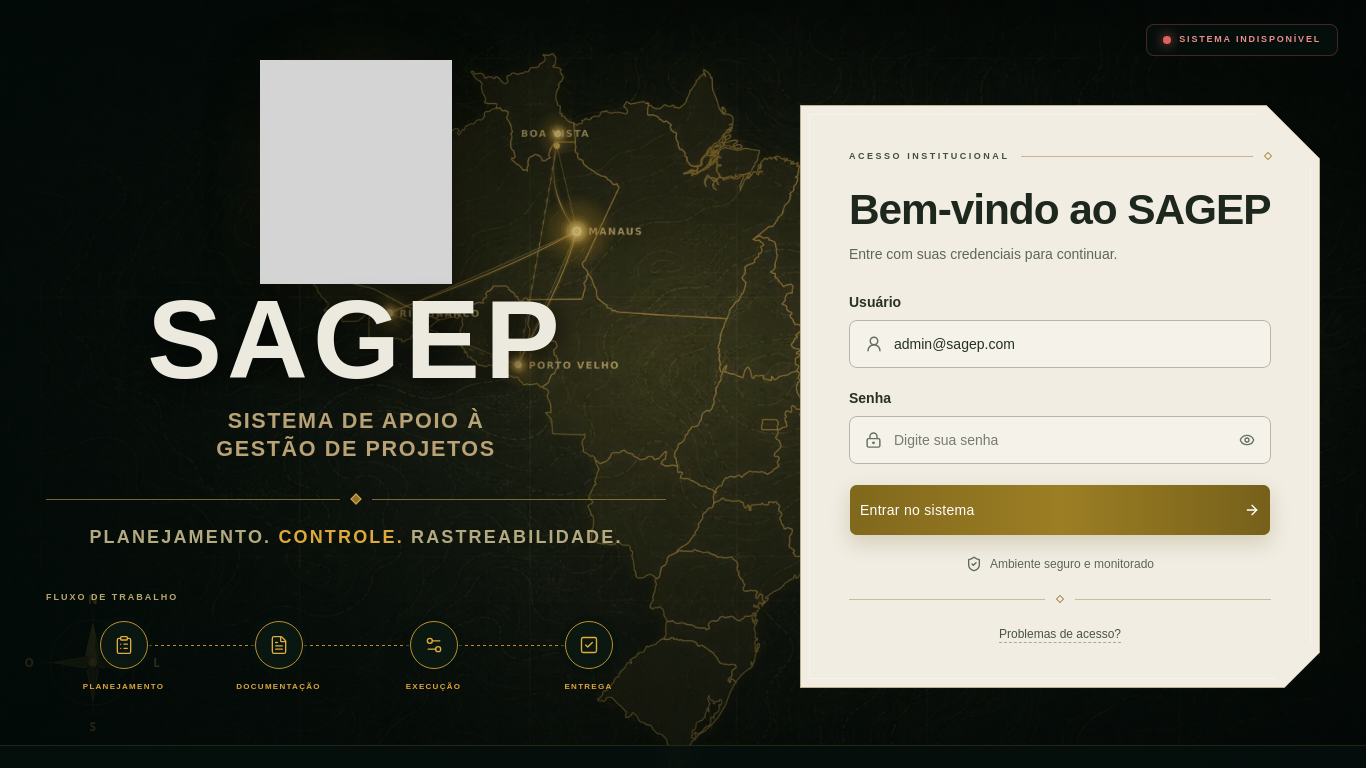
it: LoginPage › autentica, valida o usuário e abre a página inicial
Type "123456" into the password field labelled "Senha". click: (1060, 440)
box: 849,416 -> 1271,464
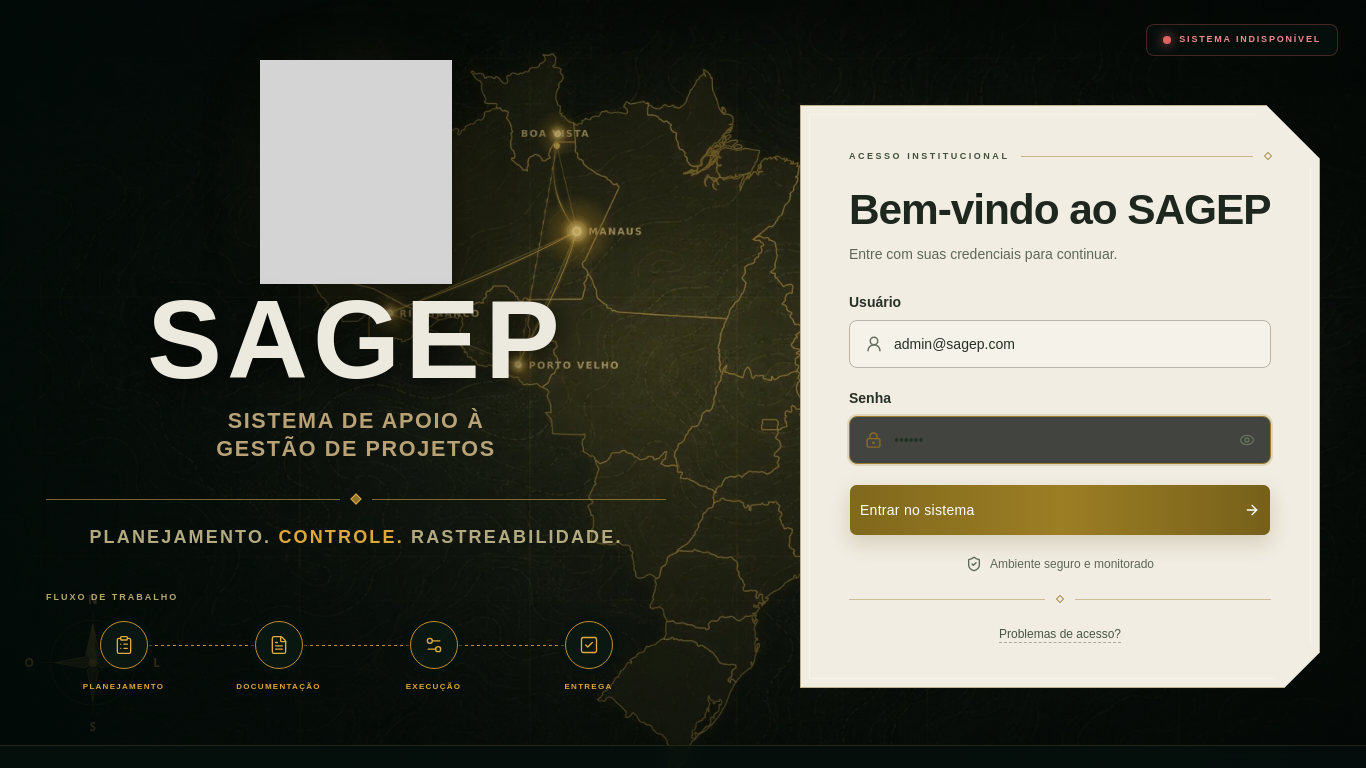
Click the button "Entrar no sistema". click: (917, 510)
box: 849,484 -> 1271,536
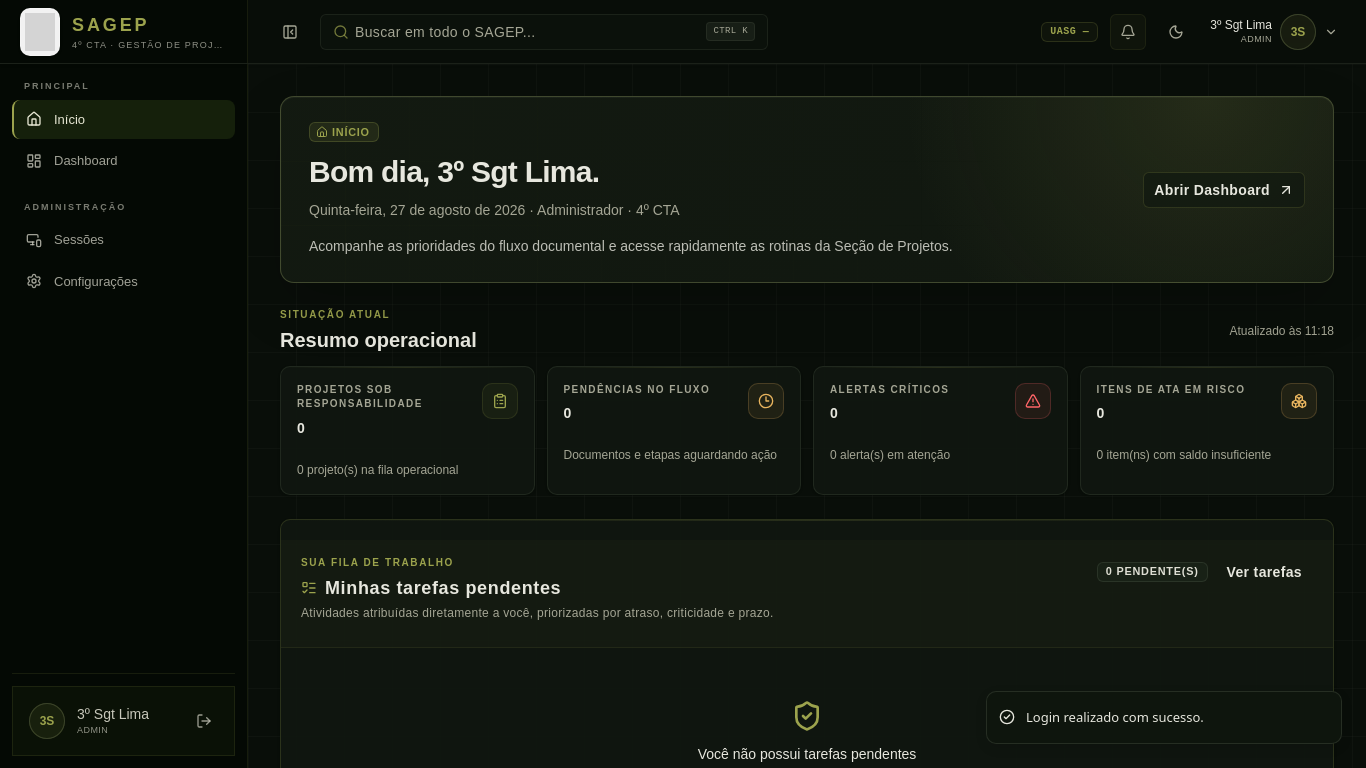
Expected: the button with aria-label "Abrir menu da conta de 3º Sgt Lima" is shown, 1206,10 -> 1342,54
